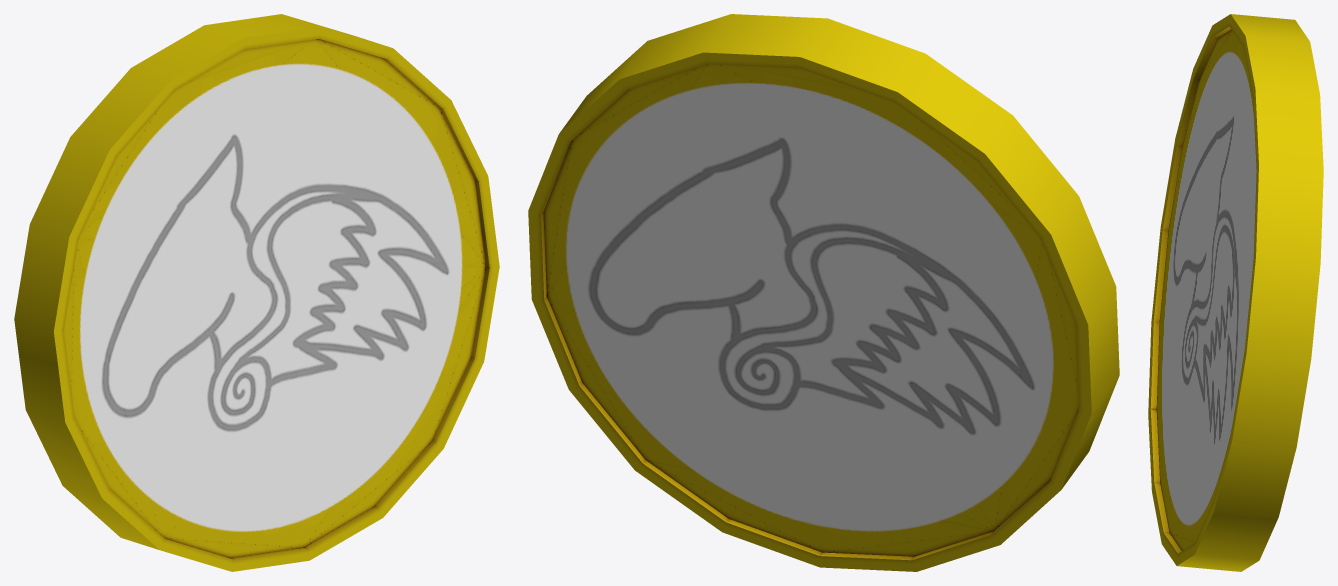
The model's file is flight.fbx.
3 renders of one model, left to right at view 1: azimuth 30°, elevation 25°; view 2: azimuth 150°, elevation 25°; view 3: azimuth 270°, elevation 25°, orthographic. The views are drawn at different scales.
Visible parts, largest first — view 1: pCylinder3; view 2: pCylinder3; view 3: pCylinder3.
Boxes of the visible parts, x1,y1,x2,y2 form: pCylinder3: (14,14,499,571); pCylinder3: (528,14,1119,571); pCylinder3: (1148,14,1323,571).
Size of the model in its own units: 7.62 by 7.67 by 2.41.
